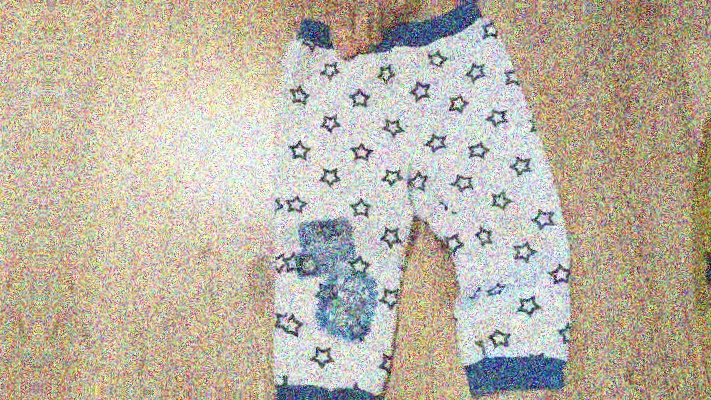Pants: (226, 12, 587, 400)
